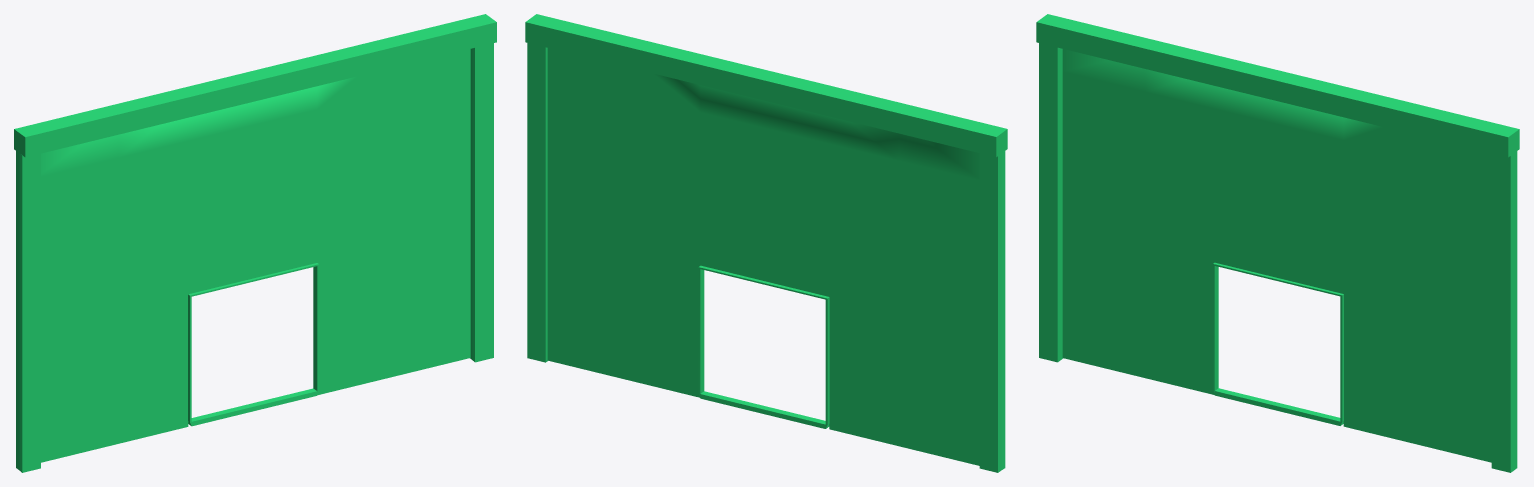
The model's file is Doorway_mesh.fbx.
3 renders of one model, left to right at view 1: azimuth 30°, elevation 25°; view 2: azimuth 150°, elevation 25°; view 3: azimuth 330°, elevation 25°, orthographic.
Parts seen in each view (by area): view 1: Doorway_mesh; view 2: Doorway_mesh; view 3: Doorway_mesh.
Boxes of the visible parts, bbox=[...] form: Doorway_mesh: bbox=[14, 14, 496, 472]; Doorway_mesh: bbox=[525, 14, 1007, 472]; Doorway_mesh: bbox=[1036, 14, 1519, 472].
Bounding box in the file's own units: 100741 × 4126 × 68859.
